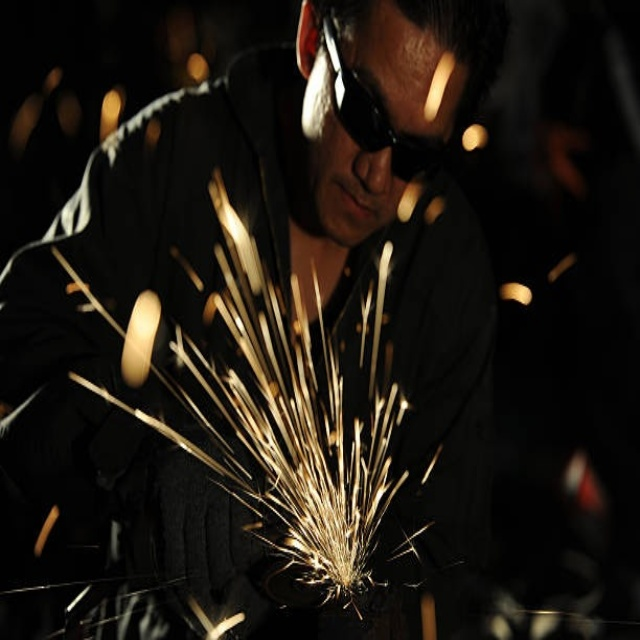Gafas: (319, 10, 450, 183)
Sin_mascara: (318, 168, 387, 242)
